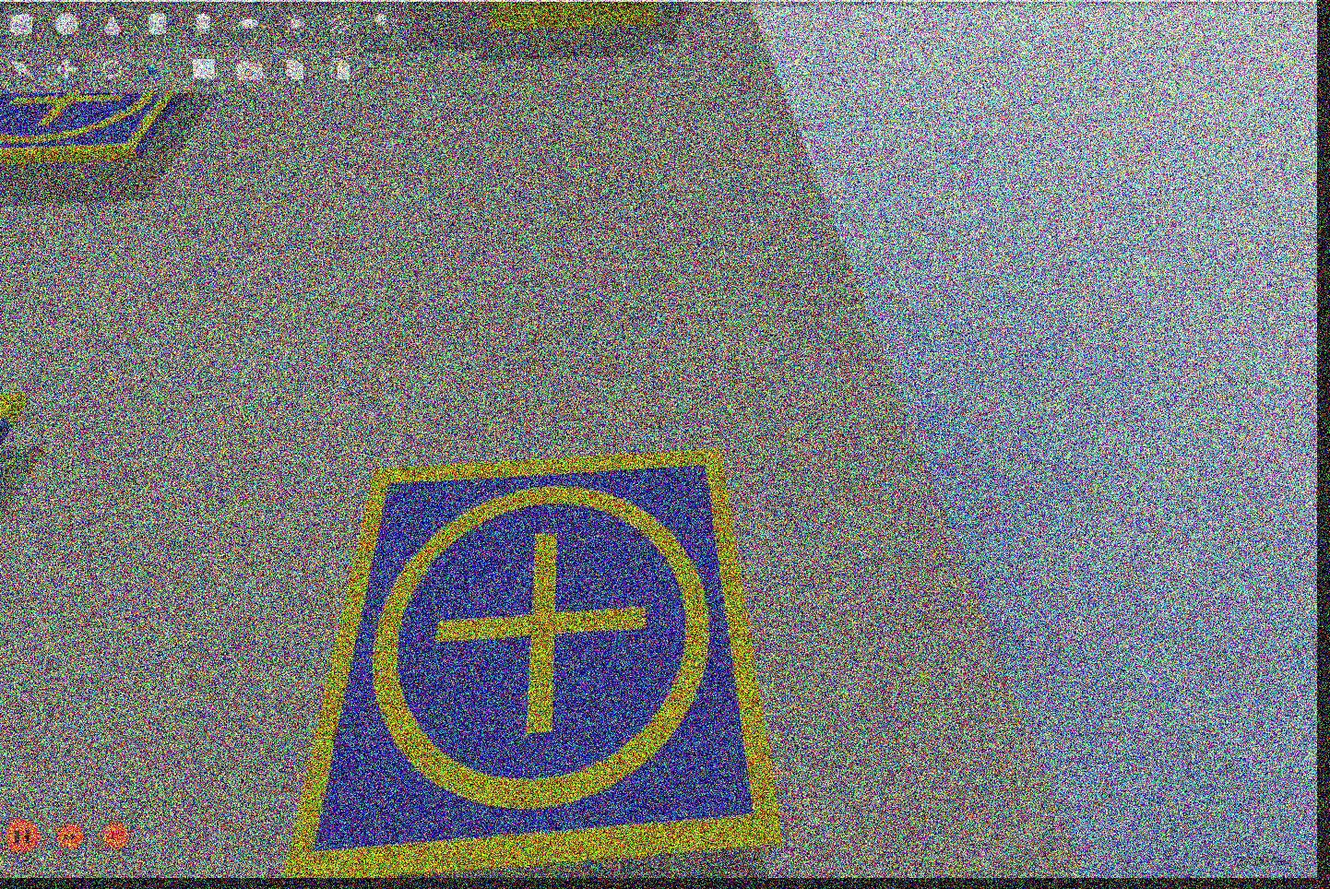small_base: (279, 446, 784, 880), (1, 93, 187, 163)
